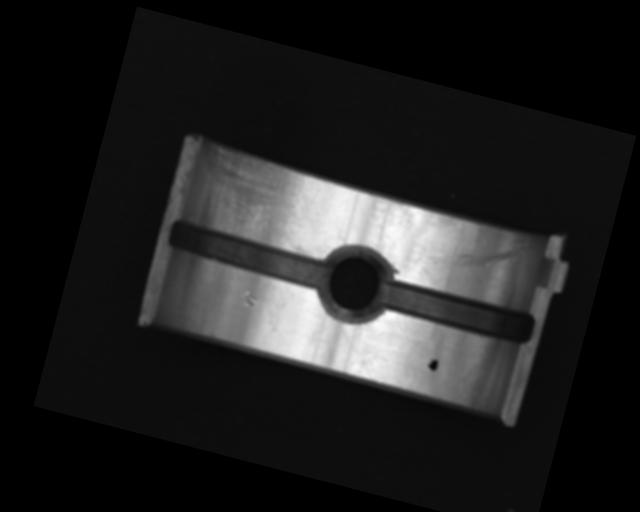blot: (426, 355, 440, 373)
bruise: (238, 288, 260, 310)
gap: (162, 214, 332, 292), (377, 275, 538, 348)
hole: (310, 239, 401, 329)
nick: (415, 215, 530, 295)
scratch: (187, 141, 328, 256)
